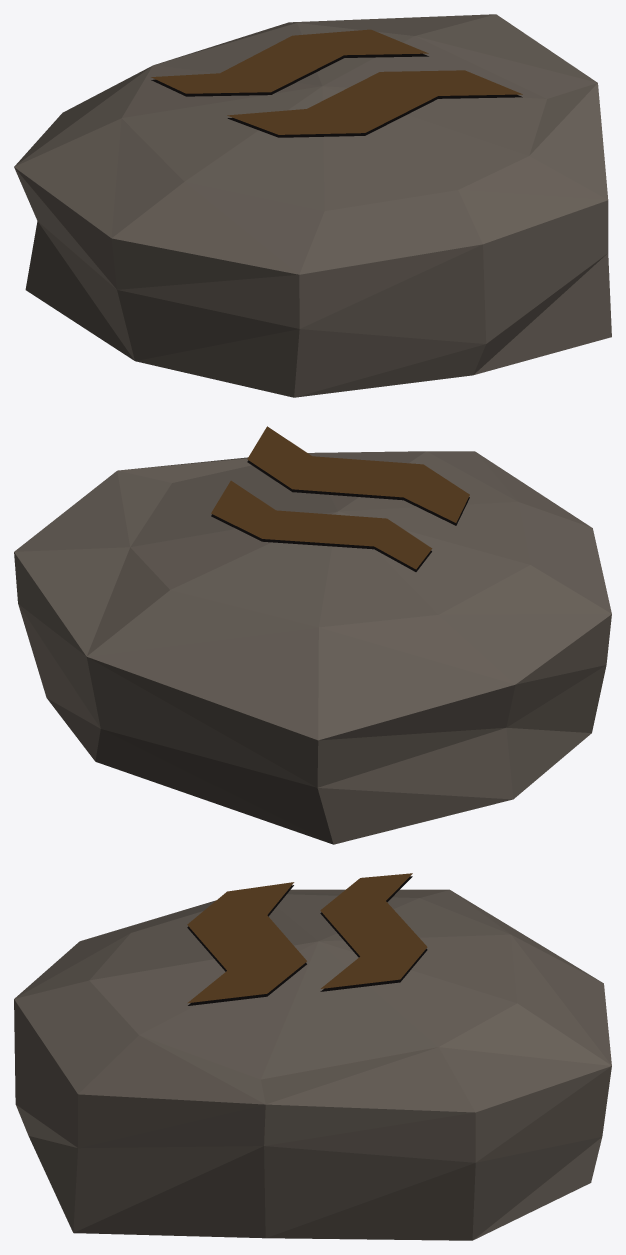
The model's file is altar-earth.obj.
3 views of the same model, one above another, from view 1: azimuth 30°, elevation 25°; view 2: azimuth 150°, elevation 25°; view 3: azimuth 270°, elevation 25° (orthographic). The views are drawn at different scales.
Parts seen in each view (by area): view 1: altar-earth; view 2: altar-earth; view 3: altar-earth.
Part boxes in pixels (box(x1,y1,x2,y2)): altar-earth: box(14, 14, 611, 397); altar-earth: box(14, 426, 611, 844); altar-earth: box(14, 873, 611, 1240).
Size of the model in its own units: 363 by 155 by 373.
